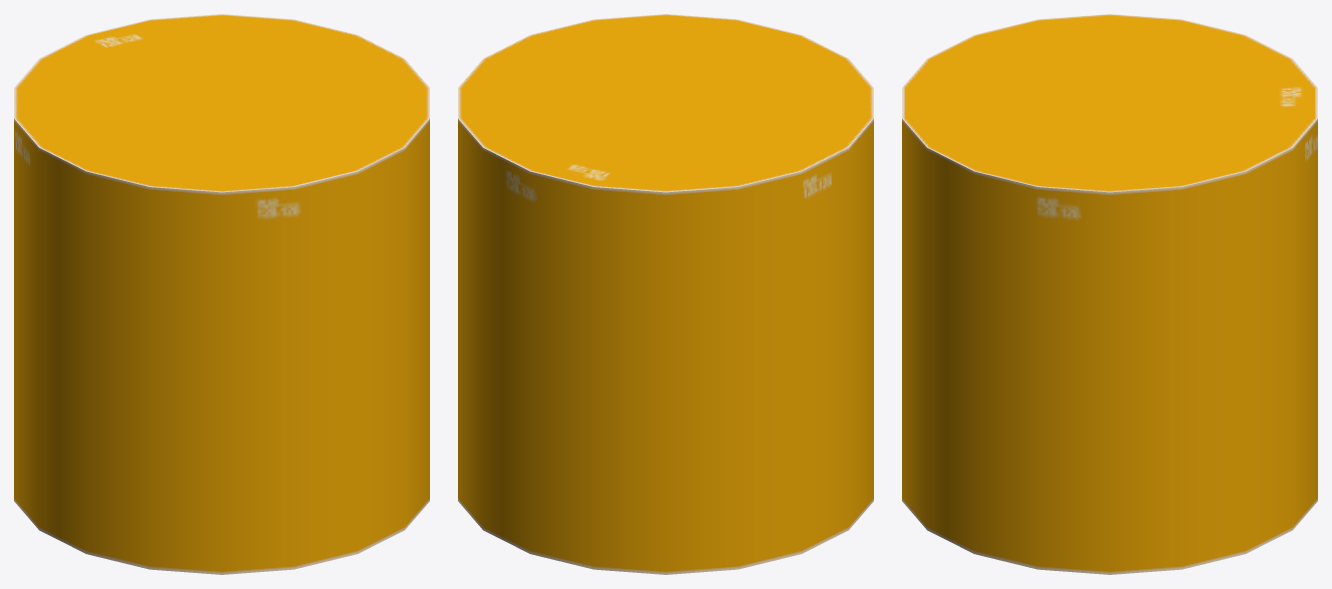
Rendered from PillarBig_o.fbx.
3 renders of one model, left to right at view 1: azimuth 30°, elevation 25°; view 2: azimuth 150°, elevation 25°; view 3: azimuth 270°, elevation 25°, orthographic.
Parts seen in each view (by area): view 1: PillarBig_o; view 2: PillarBig_o; view 3: PillarBig_o.
Boxes of the visible parts, x1,y1,x2,y2 form: PillarBig_o: [14, 14, 429, 574]; PillarBig_o: [458, 14, 873, 574]; PillarBig_o: [902, 14, 1317, 574].
Bounding box in the file's own units: 4.93 × 4.93 × 4.85.
